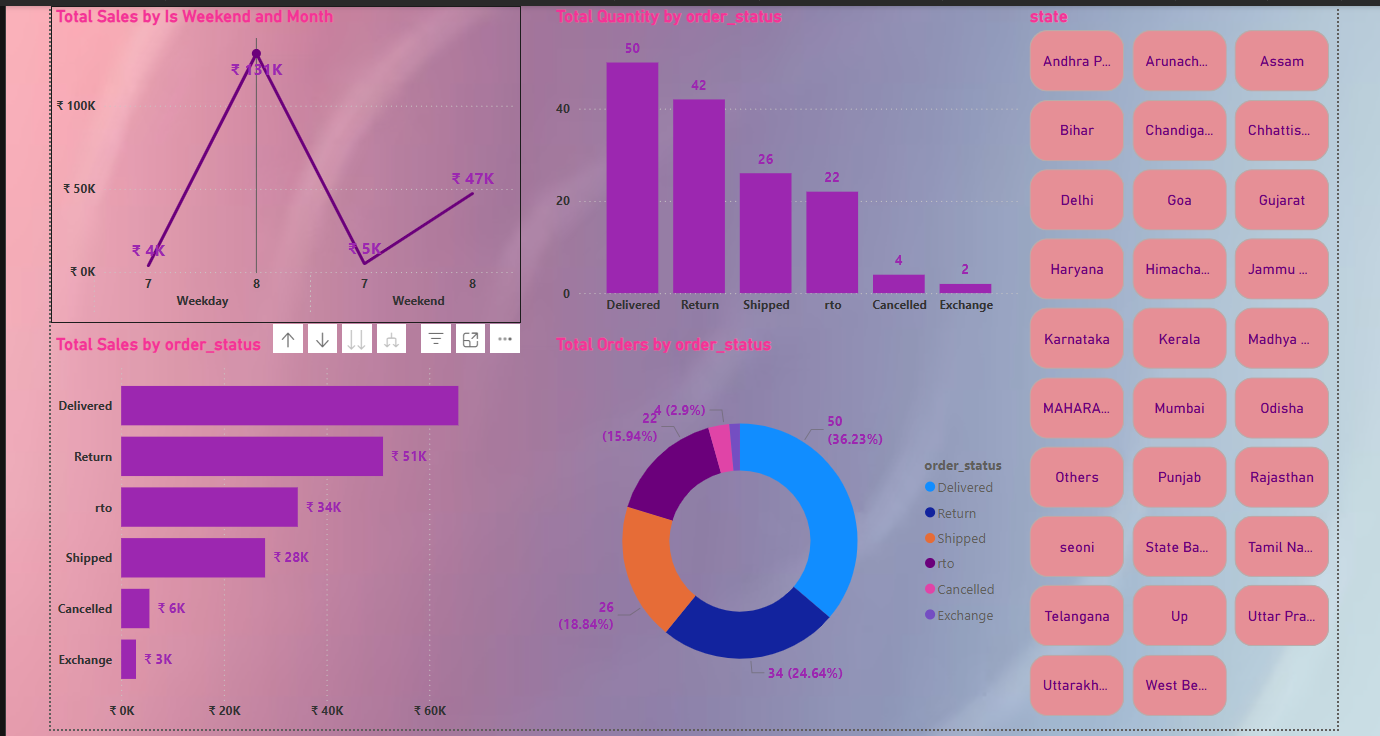

The dashboard page shown, as its layout file describes it:
{"tool":"powerbi","page":{"name":"Page 1","canvas":[1280,720],"ordinal":1},"visuals":[{"type":"lineChart","fields":{"Y":["Measure Table.Total Sales"],"Category":["Meesho Dataset.Is Weekend","Meesho Dataset.Month"]},"box":[0,0,467.7,316],"z":0},{"type":"clusteredBarChart","fields":{"Category":["Meesho Dataset.order_status"],"Y":["Measure Table.Total Sales"]},"box":[0,325.9,467.7,394.3],"z":1},{"type":"clusteredColumnChart","fields":{"Y":["Measure Table.Total Quantity"],"Category":["Meesho Dataset.order_status"]},"box":[497.6,0,471.5,316],"z":2},{"type":"advancedSlicerVisual","fields":{"Values":["Meesho Dataset.state"]},"box":[969,0,311,720.3],"z":3},{"type":"donutChart","fields":{"Y":["Measure Table.Total Orders"],"Category":["Meesho Dataset.order_status"]},"box":[497.6,325.9,471.5,394.3],"z":4}]}

Visuals, with their boxes on the page's 1280x720 design canvas (x1, y1, x2, y2). These are canvas units, not pixel positions in the 1380x736 screenshot, which may show the page scaled, cropped or inside an application window:
lineChart - Measure Table.Total Sales x Meesho Dataset.Is Weekend: Rect(0, 0, 468, 316)
clusteredBarChart - Meesho Dataset.order_status x Measure Table.Total Sales: Rect(0, 326, 468, 720)
clusteredColumnChart - Measure Table.Total Quantity x Meesho Dataset.order_status: Rect(498, 0, 969, 316)
advancedSlicerVisual - Meesho Dataset.state: Rect(969, 0, 1280, 720)
donutChart - Measure Table.Total Orders x Meesho Dataset.order_status: Rect(498, 326, 969, 720)
